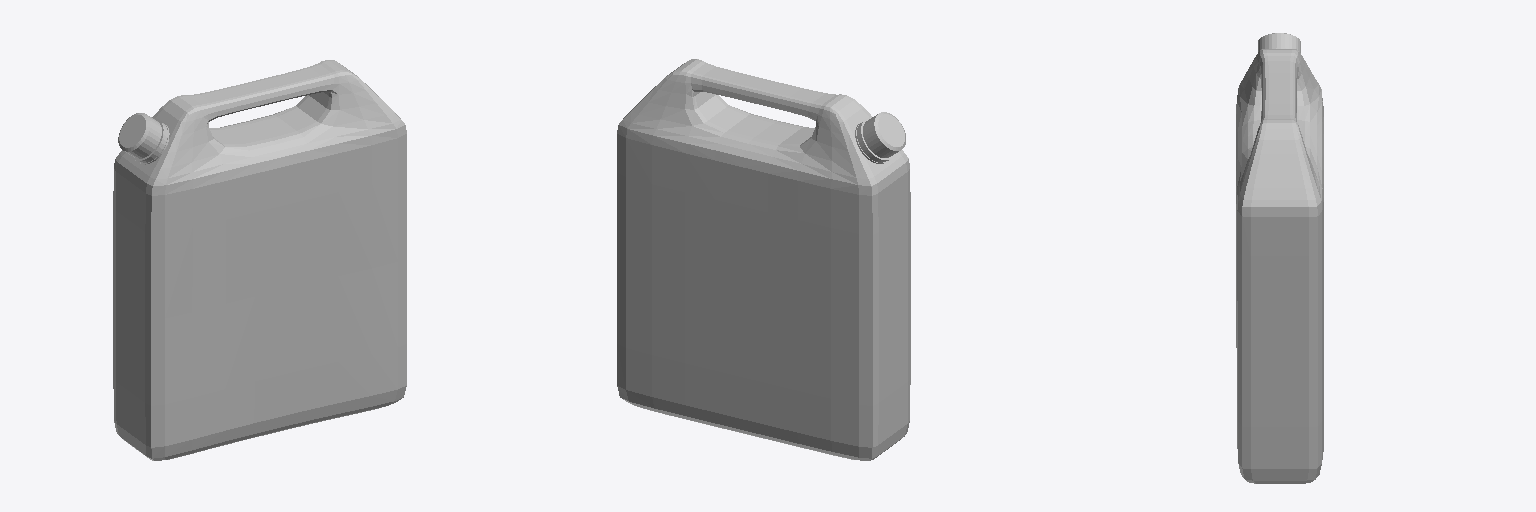
The model's file is fuel.obj.
The picture shows the model from 3 angles: view 1: azimuth 30°, elevation 25°; view 2: azimuth 150°, elevation 25°; view 3: azimuth 270°, elevation 25°; orthographic projection.
Visible parts, largest first — view 1: Plane.002; view 2: Plane.002; view 3: Plane.002.
Part boxes in pixels (bbox=[...]): Plane.002: bbox=[113, 60, 406, 460]; Plane.002: bbox=[617, 59, 910, 460]; Plane.002: bbox=[1236, 33, 1323, 483].
Size of the model in its own units: 3.24 by 3.96 by 0.929.